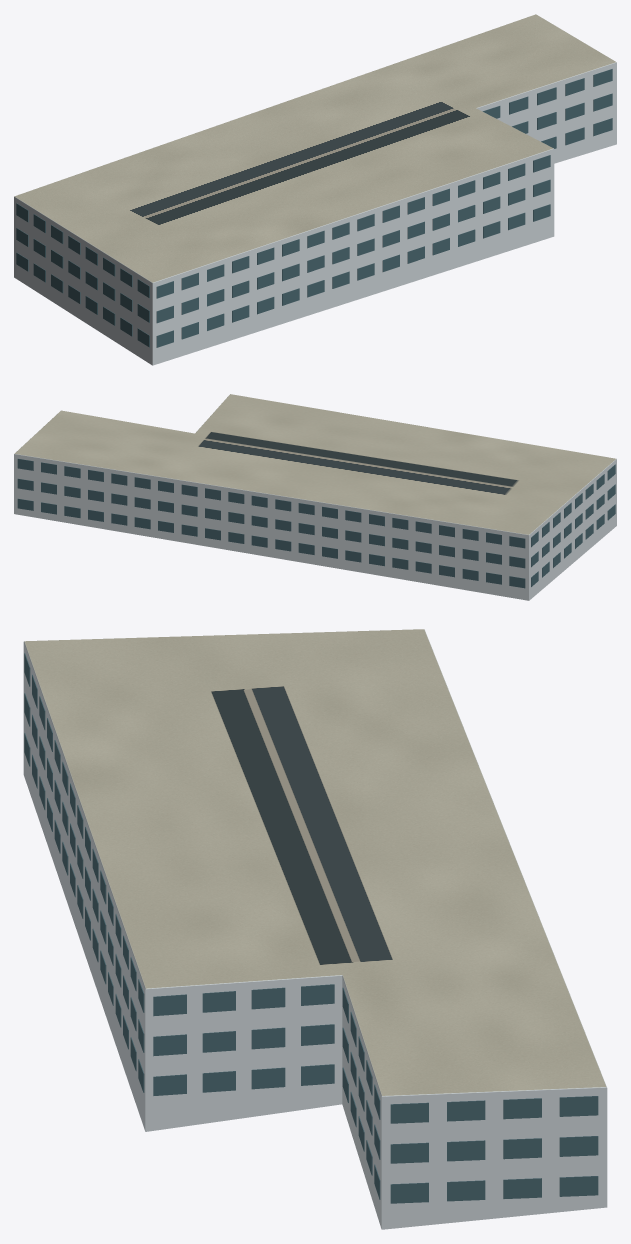
The model's file is intact.glb.
3 views of the same model, one above another, from view 1: azimuth 30°, elevation 25°; view 2: azimuth 150°, elevation 25°; view 3: azimuth 270°, elevation 25° (orthographic). The views are drawn at different scales.
Parts seen in each view (by area): view 1: SM_osm-972016220_Intact_00, SM_osm-972016220_Intact_01; view 2: SM_osm-972016220_Intact_00, SM_osm-972016220_Intact_01; view 3: SM_osm-972016220_Intact_00, SM_osm-972016220_Intact_01.
Boxes of the visible parts, x1,y1,x2,y2 form: SM_osm-972016220_Intact_00: [14, 14, 616, 365]; SM_osm-972016220_Intact_01: [16, 69, 612, 347]; SM_osm-972016220_Intact_00: [14, 394, 616, 600]; SM_osm-972016220_Intact_01: [17, 458, 615, 588]; SM_osm-972016220_Intact_00: [23, 629, 607, 1229]; SM_osm-972016220_Intact_01: [24, 653, 598, 1203].
Bounding box in the file's own units: 2.2 × 0.3142 × 1.16.
Materials: 4 (1 with a texture image).
